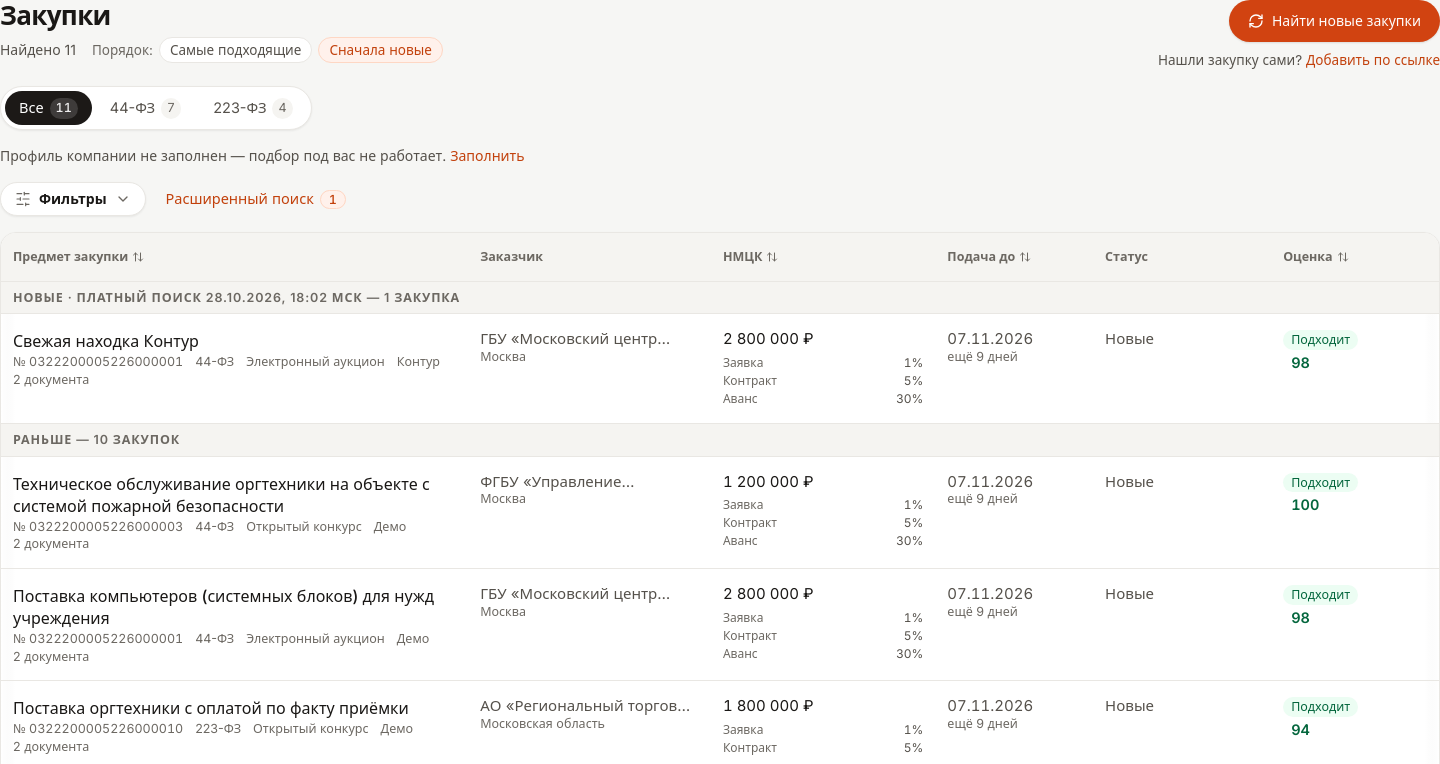
Test: TendersView — порядок выдачи по свежести › выбранный порядок виден чипом, а снятие чипа возвращает порядок по Fit Score
What coordinates should you click on to do the following:
click the button "Расширенный поиск1"
I would click on:
 (256, 199)
Its box is [166, 188, 346, 210].
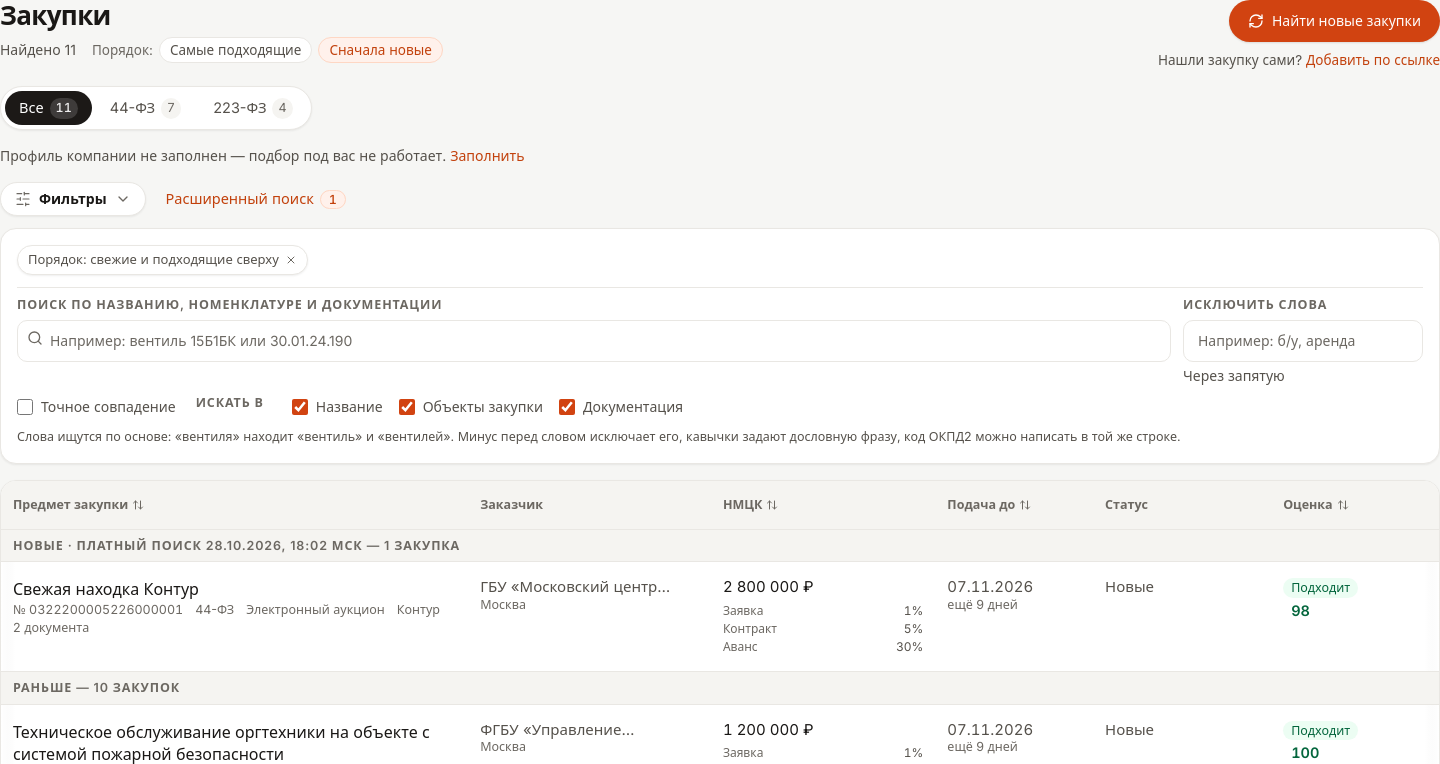
Expected: the text "Новые · платный поиск 28.10.2026, 18:02 МСК — 1 закупка" is shown, [1, 529, 1439, 562]
What coordinates should you click on to do the following:
click the button with aria-label "Сортировать по НМЦК"
I would click on:
 (751, 505)
Its box is [723, 497, 778, 513].
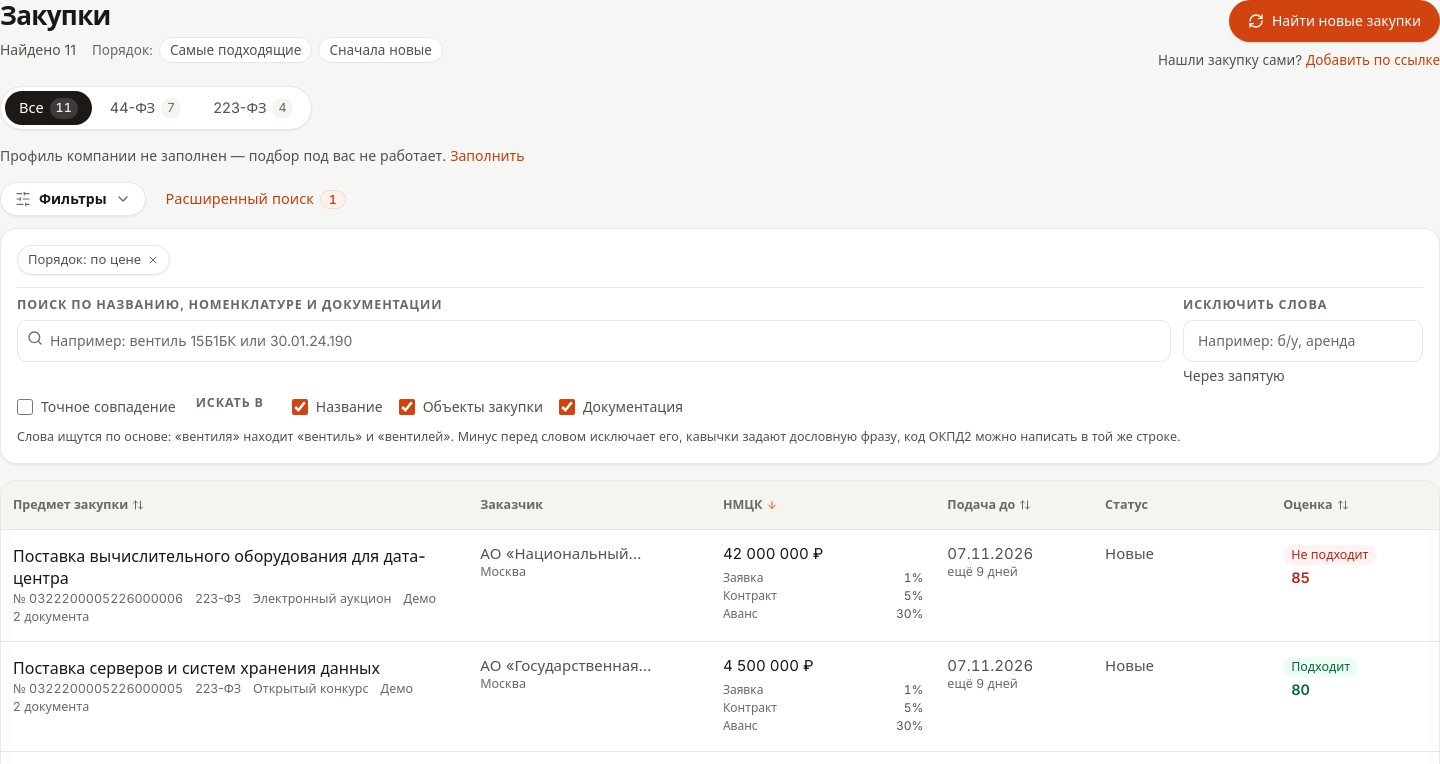
Expected: the text "Порядок: по цене" is shown, [28, 250, 141, 270]
Expected: the text "Новые · платный поиск" is gone
What coordinates should you click on to do the following:
click the button named "Снять фильтр: Порядок: по цене"
I would click on:
 (153, 260)
Its box is [147, 254, 159, 266].
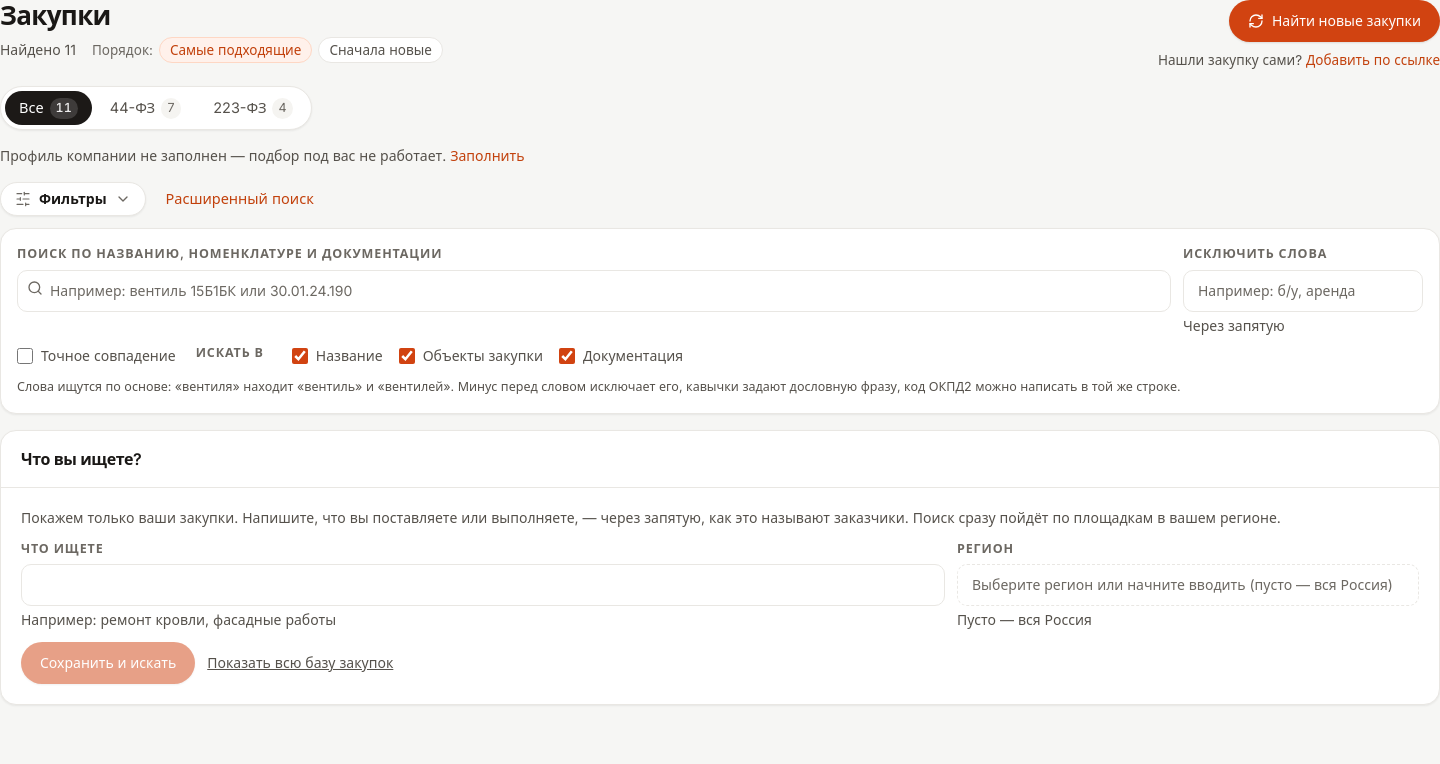
Expected: the text "Порядок: по цене" is gone
